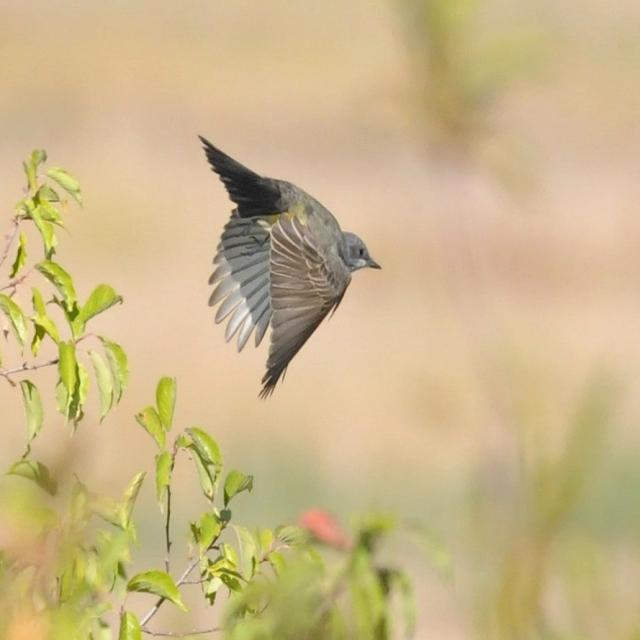bird: (192, 127, 392, 406)
